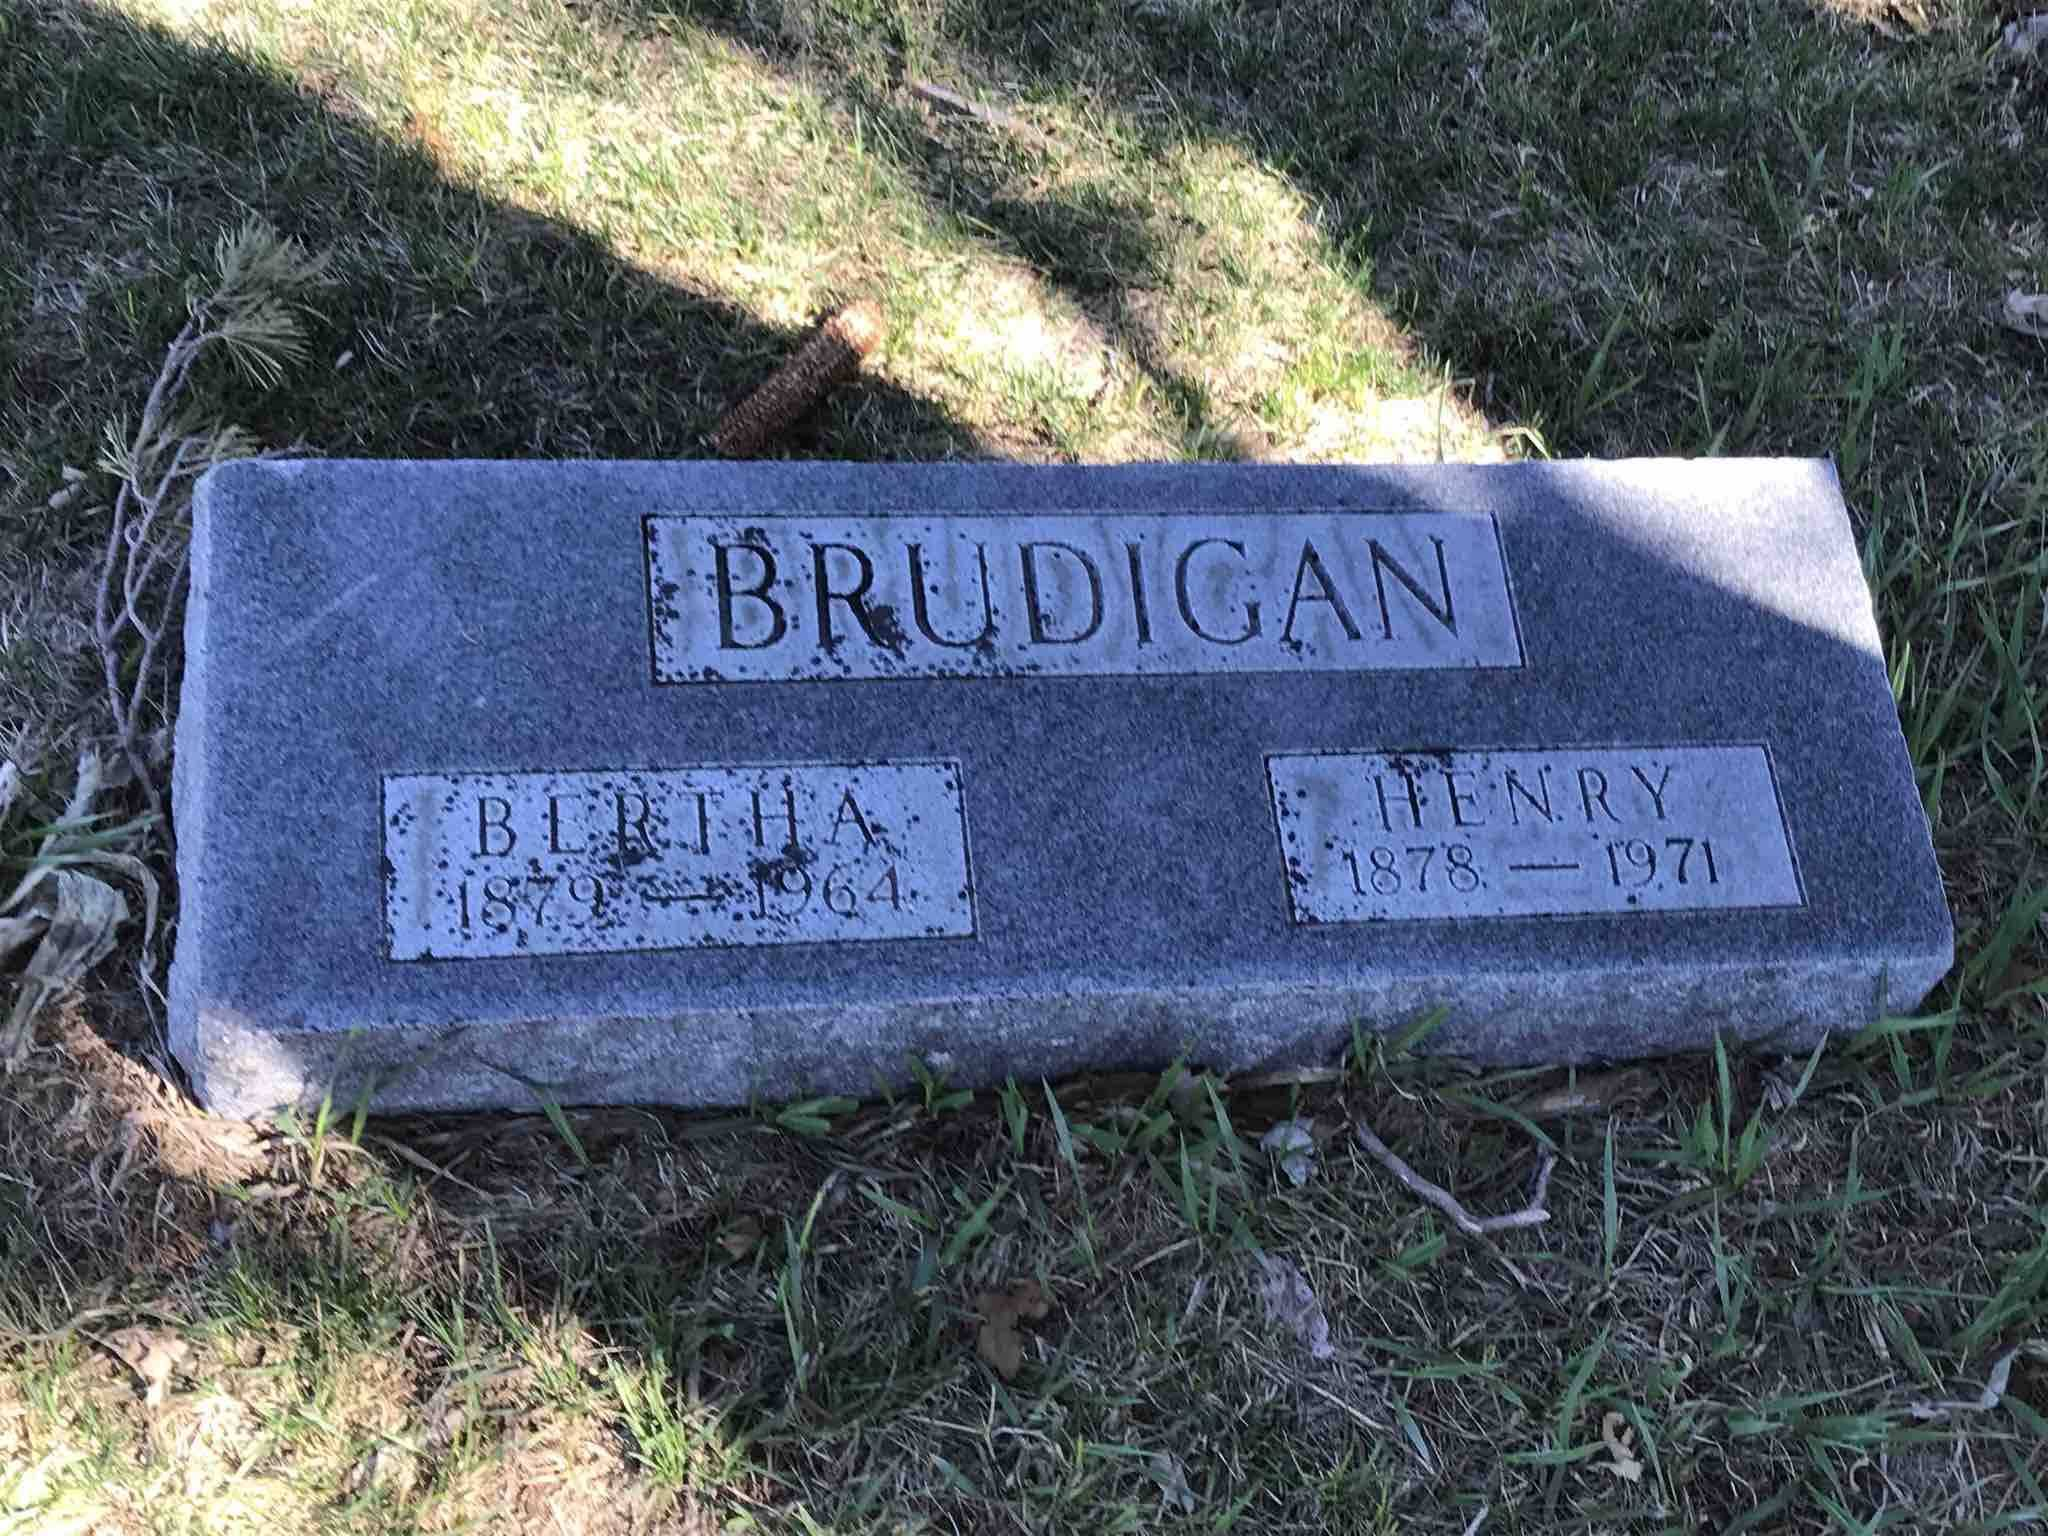flat: (140, 421, 1967, 1108)
